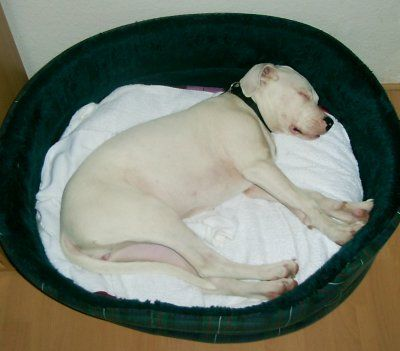dogo_argentino: (59, 62, 373, 299)
